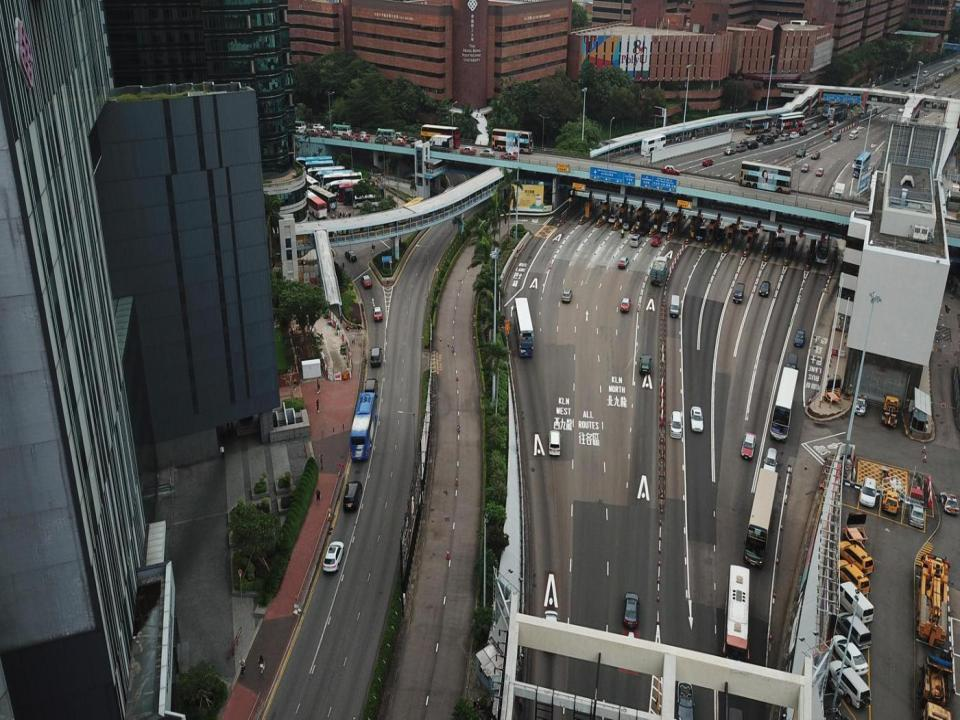bus: (743, 467, 778, 567), (721, 565, 749, 675), (770, 366, 798, 444), (739, 160, 792, 195), (350, 392, 376, 460), (514, 297, 534, 357), (491, 128, 533, 154), (314, 169, 355, 193), (420, 124, 460, 147), (320, 171, 362, 192), (293, 156, 332, 178), (306, 164, 345, 186), (328, 180, 370, 200), (344, 185, 384, 206), (307, 185, 338, 210), (815, 221, 833, 264), (300, 190, 327, 218), (337, 184, 378, 202), (640, 134, 666, 158), (822, 95, 849, 118), (304, 160, 334, 180), (776, 114, 805, 134), (852, 151, 872, 179), (776, 112, 804, 132), (298, 173, 320, 198), (745, 115, 772, 134), (353, 193, 384, 208), (827, 103, 848, 122), (375, 127, 395, 142), (330, 123, 352, 136), (284, 120, 306, 132)
car: (831, 634, 868, 676), (676, 682, 695, 719), (323, 541, 344, 572), (622, 592, 640, 628), (908, 503, 926, 529), (940, 490, 959, 514), (741, 431, 756, 459), (690, 406, 703, 431), (853, 394, 867, 416), (758, 280, 771, 297), (793, 329, 805, 347), (740, 216, 752, 234), (661, 166, 680, 176), (500, 151, 518, 161), (694, 226, 706, 241), (460, 146, 477, 156), (620, 297, 631, 312), (410, 139, 426, 149), (373, 306, 383, 322), (617, 256, 630, 268), (361, 275, 372, 289), (345, 250, 357, 262), (561, 288, 572, 301), (355, 133, 369, 142), (318, 130, 333, 138), (391, 138, 406, 146), (392, 132, 407, 140), (480, 149, 495, 157), (622, 220, 634, 230), (650, 236, 662, 246), (340, 132, 354, 140), (356, 131, 370, 139), (374, 136, 388, 144), (404, 137, 418, 144), (313, 124, 325, 132), (638, 226, 648, 235), (756, 133, 766, 142), (608, 214, 619, 222), (702, 158, 713, 166), (739, 139, 750, 147), (768, 131, 779, 139), (811, 151, 820, 160), (748, 141, 758, 149), (307, 129, 320, 135), (717, 120, 728, 127), (312, 127, 324, 133), (724, 148, 735, 154), (816, 168, 824, 176), (801, 164, 809, 172), (812, 122, 820, 129), (929, 91, 937, 98), (799, 129, 808, 135), (898, 106, 906, 112), (912, 85, 919, 91), (824, 130, 832, 135), (828, 121, 836, 126), (935, 83, 940, 89), (939, 72, 945, 77), (910, 74, 915, 79)
truck: (917, 554, 951, 648), (917, 645, 953, 719), (881, 394, 901, 428), (650, 255, 667, 286), (426, 134, 453, 153), (833, 182, 846, 204)
van: (826, 660, 872, 709), (836, 581, 874, 625), (836, 611, 871, 651), (834, 559, 870, 597), (837, 541, 874, 576), (542, 610, 560, 650), (859, 477, 880, 507), (343, 481, 363, 510), (882, 488, 899, 515), (762, 448, 777, 476), (669, 411, 684, 439), (783, 353, 798, 379), (733, 282, 745, 304), (365, 378, 378, 398), (669, 294, 680, 317), (639, 354, 652, 373), (370, 348, 382, 368), (660, 219, 672, 233), (716, 225, 726, 241), (630, 234, 642, 247), (777, 230, 786, 247), (289, 126, 304, 135), (762, 136, 775, 144), (848, 130, 859, 139), (796, 148, 806, 157), (832, 132, 841, 142), (736, 144, 747, 152), (781, 133, 790, 141), (790, 132, 799, 138), (902, 80, 910, 86), (922, 70, 928, 76), (894, 79, 901, 84)
